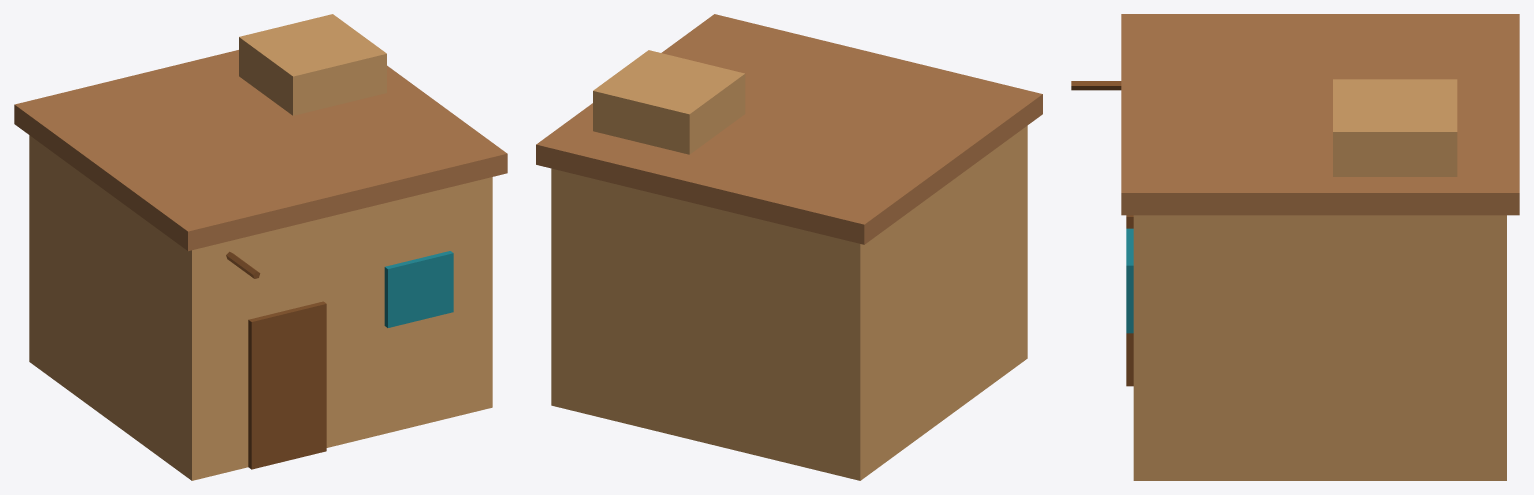
File: adobe_house.fbx
The picture shows the model from 3 angles, left to right: view 1: azimuth 30°, elevation 25°; view 2: azimuth 150°, elevation 25°; view 3: azimuth 270°, elevation 25°; orthographic projection. The views are drawn at different scales.
Visible parts, largest first — view 1: adobe_house; view 2: adobe_house; view 3: adobe_house.
Part boxes in pixels (x1,y1,x2,y2): adobe_house: [14, 14, 507, 480]; adobe_house: [536, 14, 1042, 480]; adobe_house: [1071, 14, 1519, 480].
Bounding box in the file's own units: 3.4 × 3 × 3.6.
